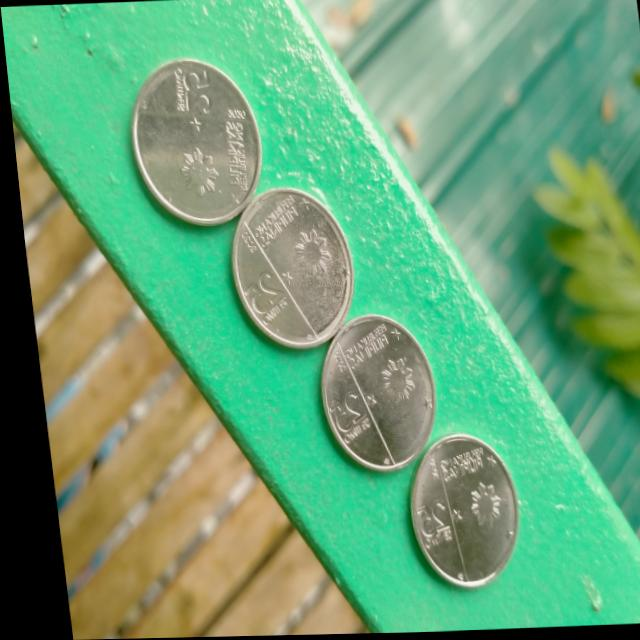25Cent_New_Front: (221, 196, 330, 330), (396, 440, 499, 560)
